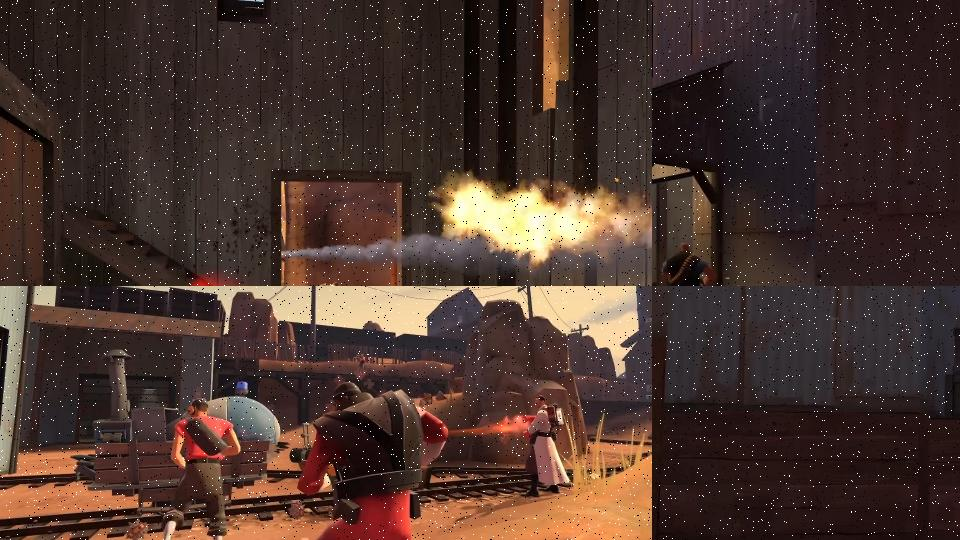Enemy: (289, 381, 449, 540), (148, 396, 241, 540), (521, 395, 571, 498), (660, 242, 718, 286), (353, 354, 366, 376)
